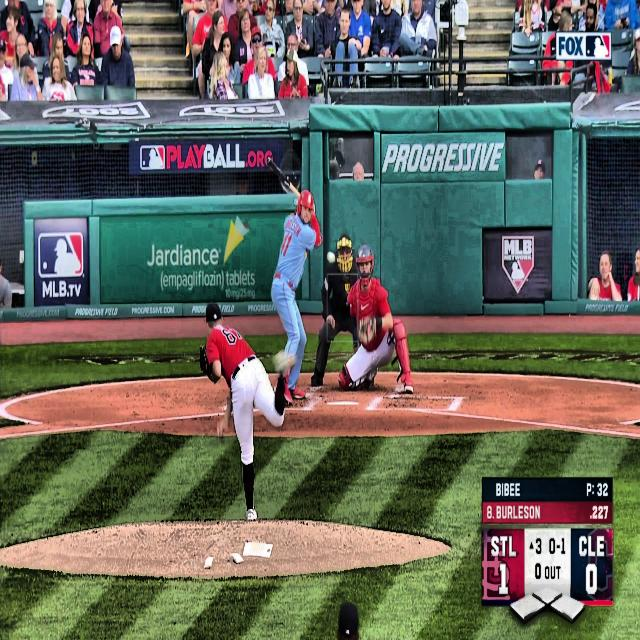baseball: (327, 250, 336, 265)
